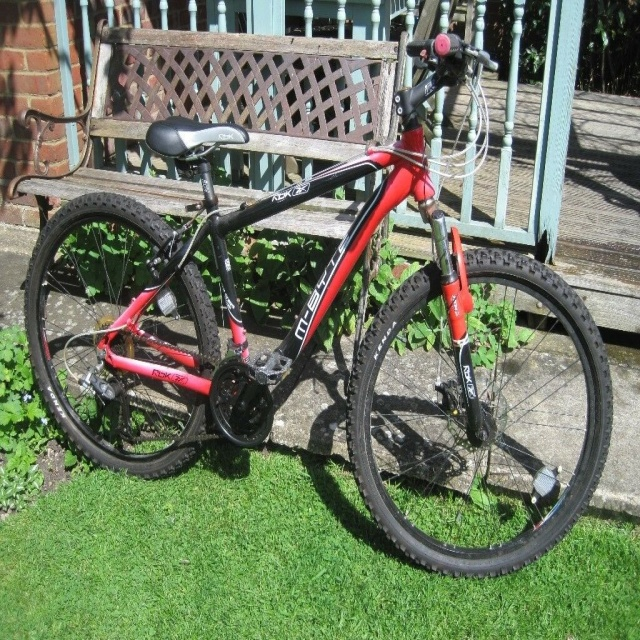bicycle: (26, 33, 612, 579)
